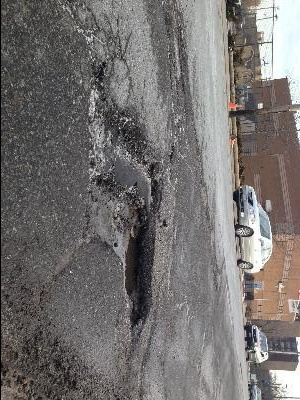pothole: (86, 88, 164, 328), (165, 27, 187, 93)
